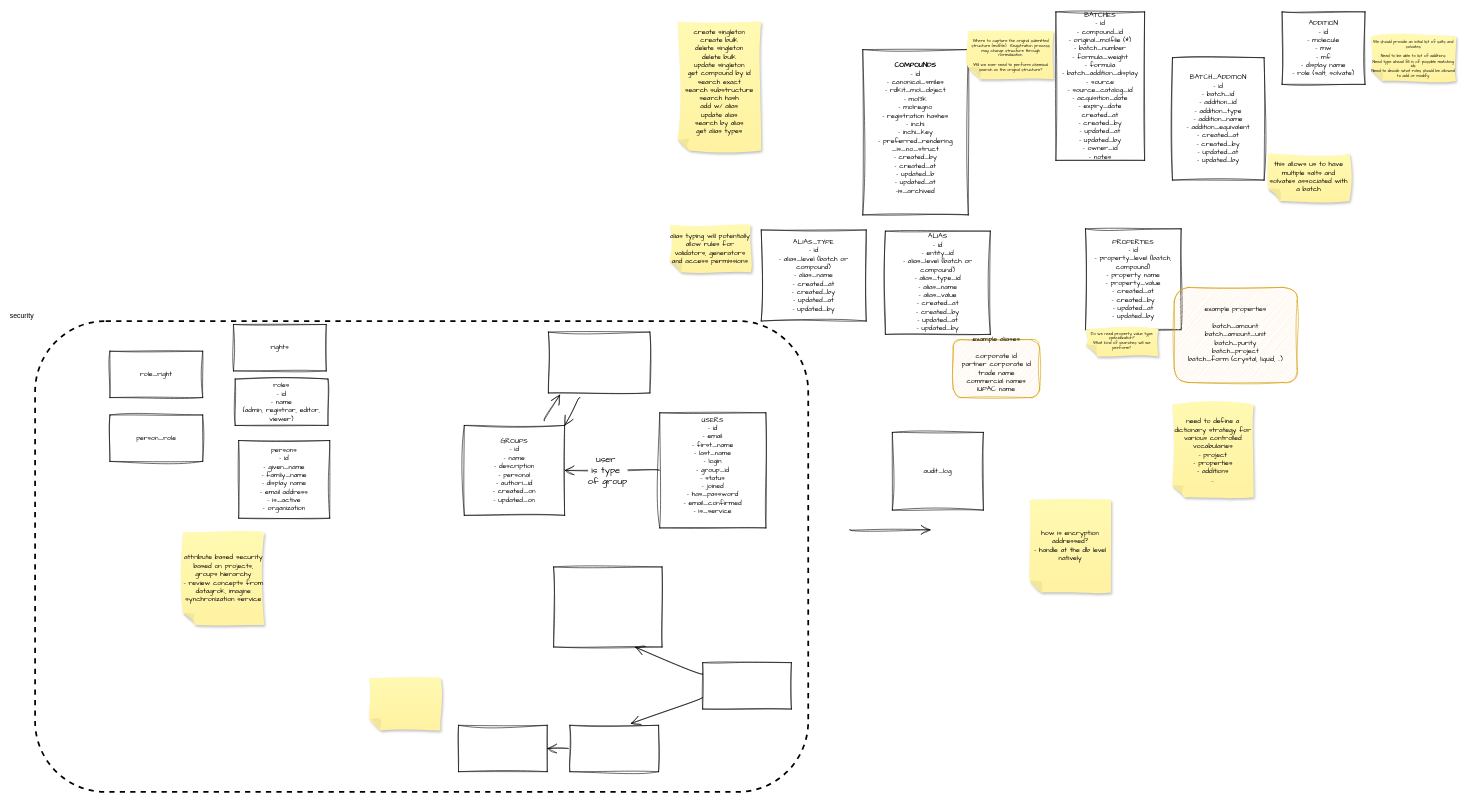
Image size: 1469x803. Some labels were removed from this diagram. Each missing label, with the centre of its shape:
ENTITIES - id - entity_type_id - name - is_deleted: the point at 614,748
ENTITIES_TYPES - id - name: the point at 502,748
ENTITIES_TYPES should be renamed to singular entity: the point at 405,704
GROUPS_RELATIONS - id - parent_id - child_id - is_admin: the point at 599,362
PROJECT_RELATIONS - id - project_id - entity_id: the point at 746,685
PROJECTS - id - name - description - author_id - created_on - updated_on: the point at 607,606
